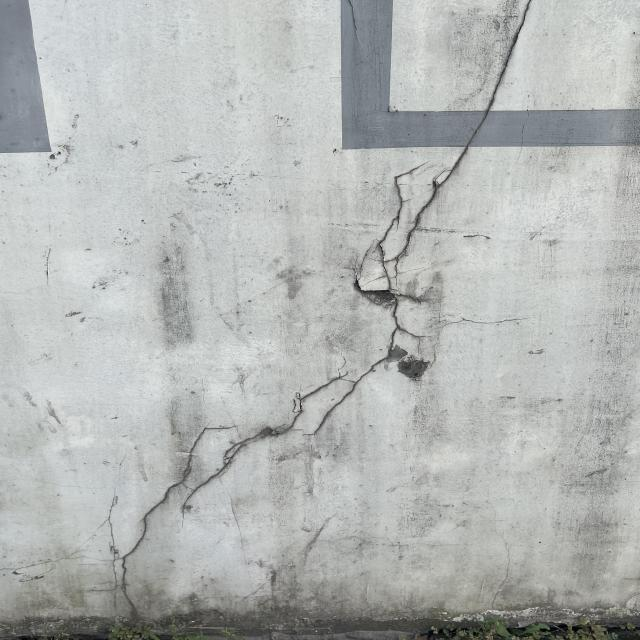crack: (52, 5, 552, 627)
